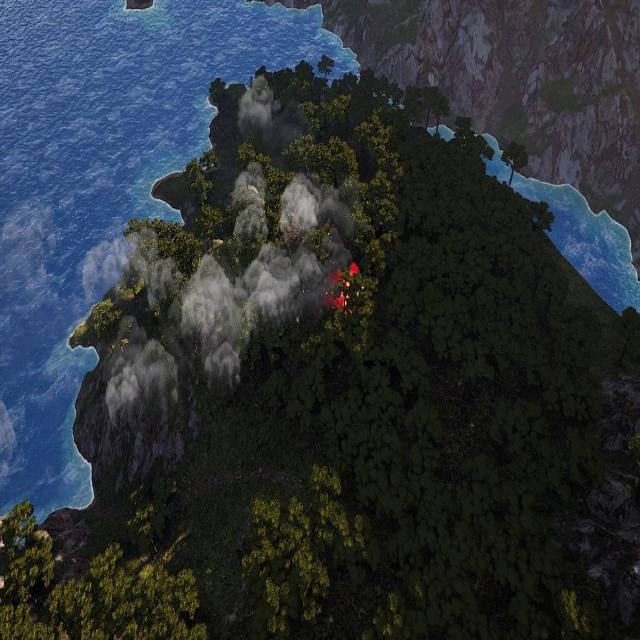fire: (318, 268, 364, 318)
smoke: (103, 164, 362, 419), (235, 75, 281, 143)
